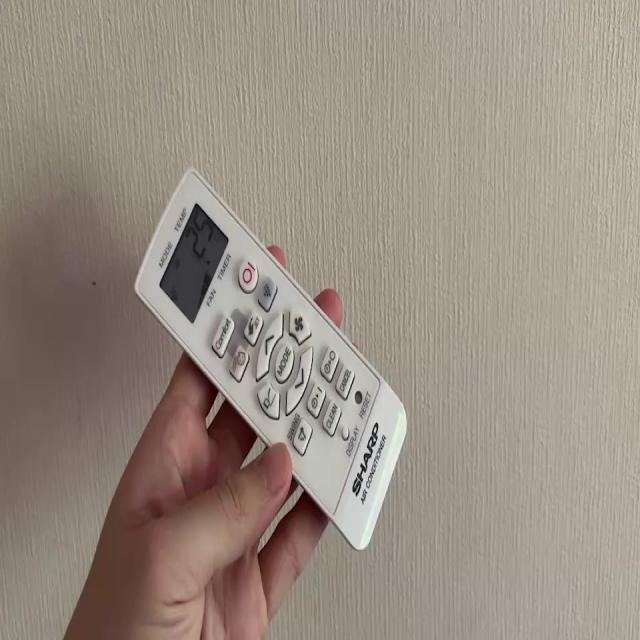remote: (138, 168, 406, 550)
